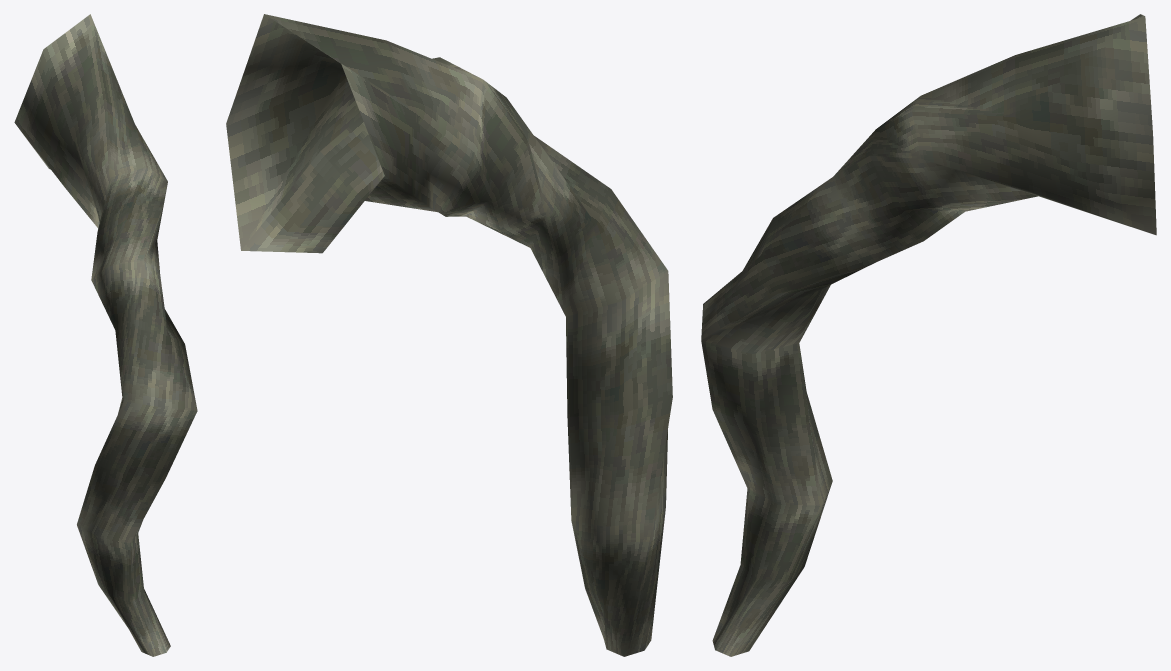
File: TROLLHOLE02_ROOTMAINA12.fbx
The picture shows the model from 3 angles, left to right: view 1: azimuth 30°, elevation 25°; view 2: azimuth 150°, elevation 25°; view 3: azimuth 270°, elevation 25°; orthographic projection. The views are drawn at different scales.
Parts seen in each view (by area): view 1: TROLLHOLE02_ROOTMAINA12; view 2: TROLLHOLE02_ROOTMAINA12; view 3: TROLLHOLE02_ROOTMAINA12.
Boxes of the visible parts, bbox=[...] form: TROLLHOLE02_ROOTMAINA12: bbox=[14, 14, 197, 656]; TROLLHOLE02_ROOTMAINA12: bbox=[226, 14, 672, 656]; TROLLHOLE02_ROOTMAINA12: bbox=[701, 14, 1156, 656].
Bounding box in the file's own units: 6197 × 19036 × 11422.
Materials: 1 (1 with a texture image).
